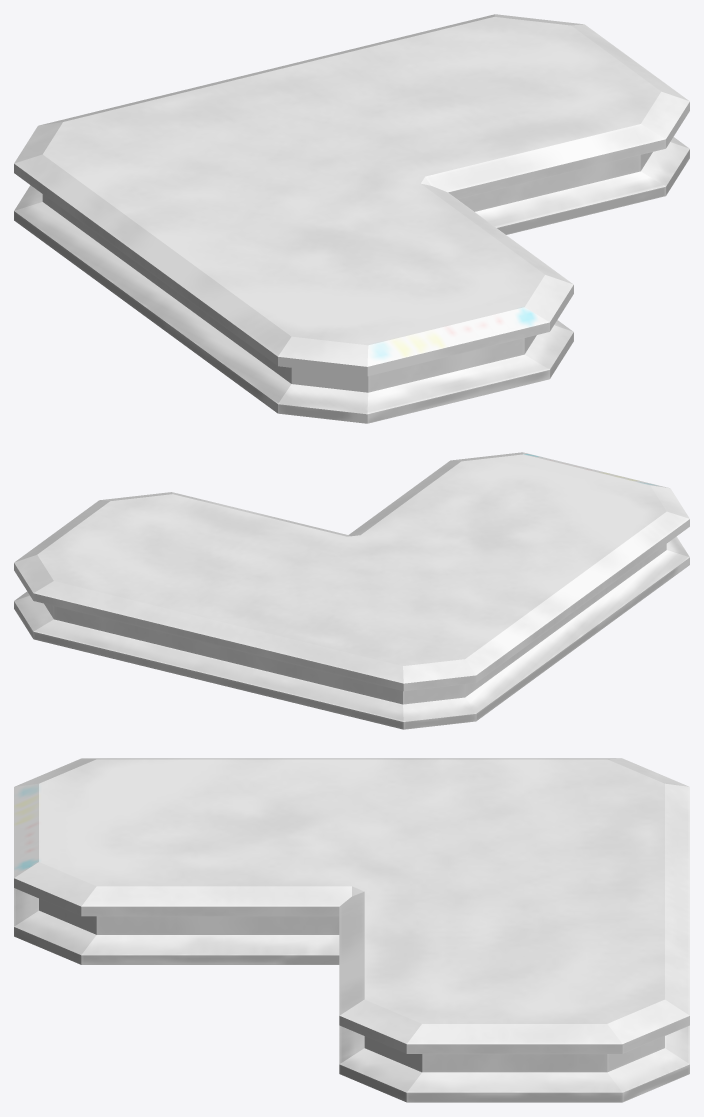
3 renders of one model, top to bottom at view 1: azimuth 30°, elevation 25°; view 2: azimuth 150°, elevation 25°; view 3: azimuth 270°, elevation 25°, orthographic. The views are drawn at different scales.
Visible parts, largest first — view 1: Platform; view 2: Platform; view 3: Platform.
Boxes of the visible parts, bbox=[...] form: Platform: bbox=[14, 14, 689, 423]; Platform: bbox=[14, 452, 689, 729]; Platform: bbox=[14, 758, 689, 1102].
Size of what is drawn, in the model's own units: 169 by 18.75 by 169.
1 material, 1 textured.
